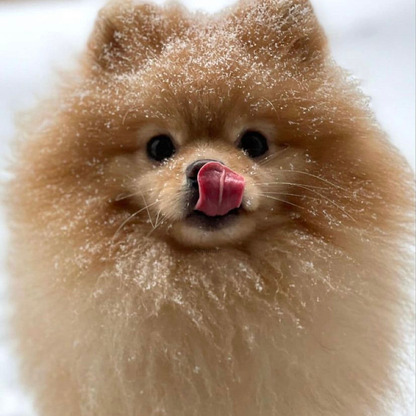Pomeranian: (32, 18, 387, 387)
